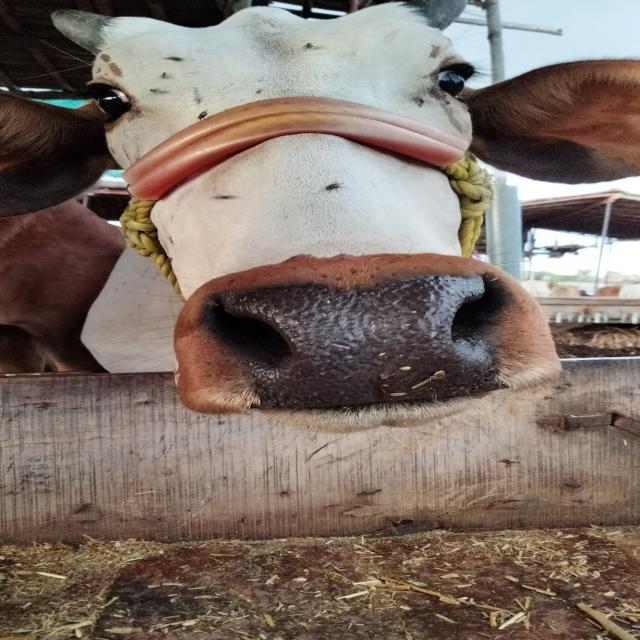muzzles: (177, 267, 525, 404)
